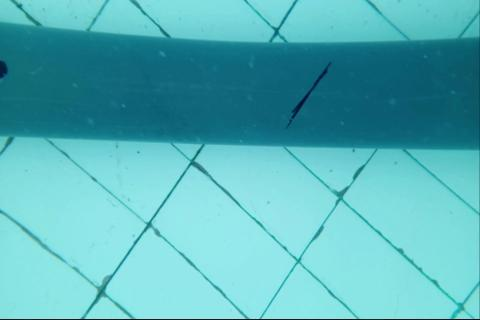kebocoran: (0, 57, 10, 81)
keretakan: (288, 60, 333, 125)
